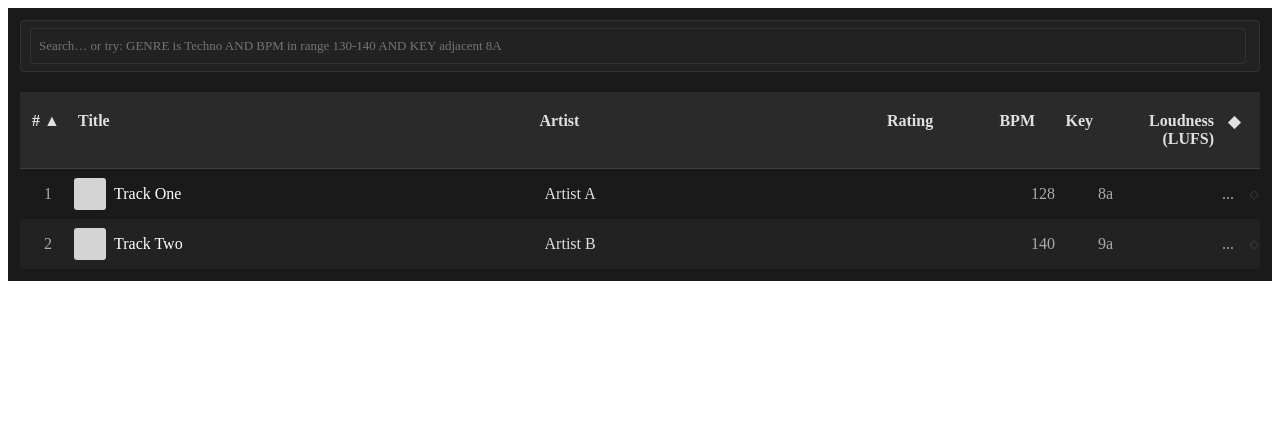
Test: context menu — submenu CSS classes › Analysis submenu does NOT have context-submenu--scrollable
Right-click the text "Track One" at (648, 194), box [20,169,1276,219]
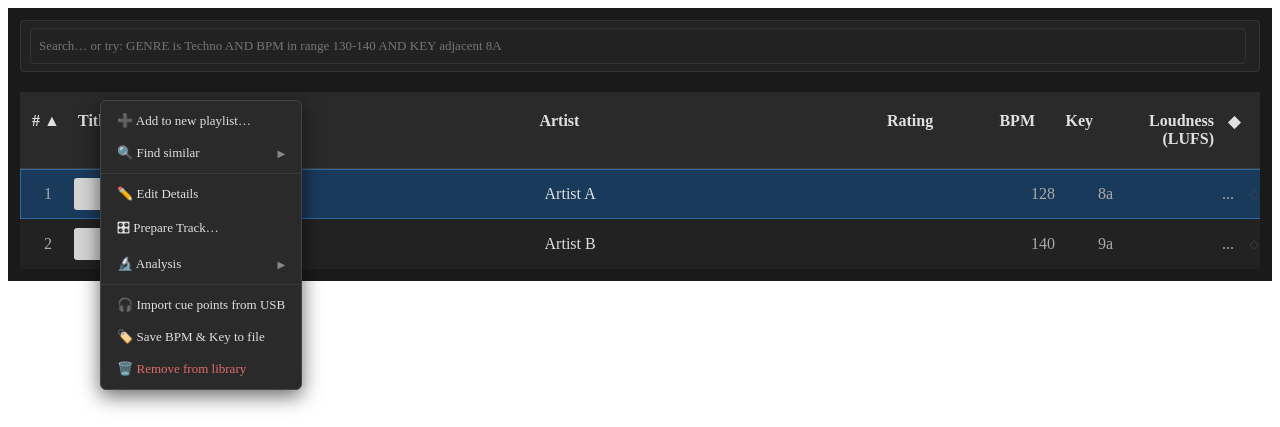
Check: the element with class "context-menu" is shown, box [100,100,302,390]
Check: the element with class "context-menu-item--has-submenu" showing "🔬 Analysis" is shown, box [117,256,181,271]
